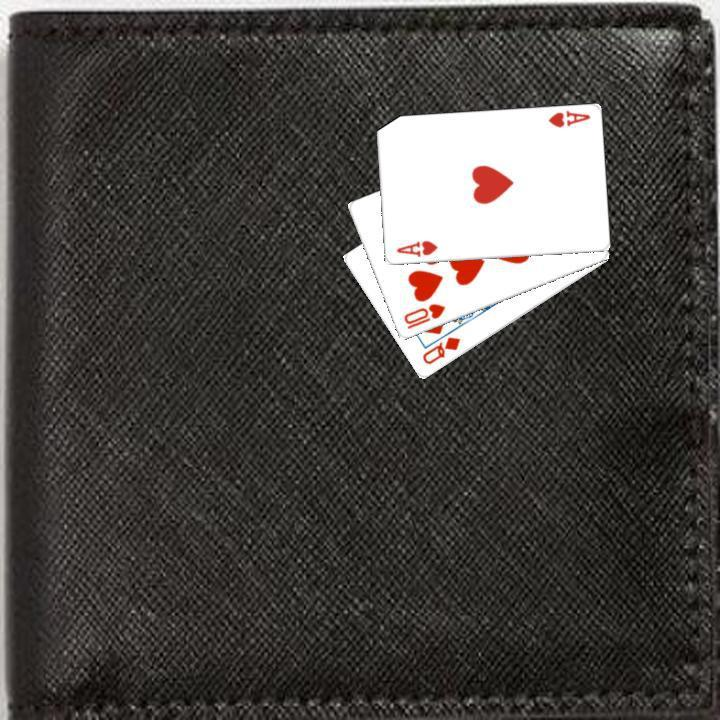10: (399, 299, 447, 331)
A: (544, 107, 592, 130), (392, 237, 439, 259)
Q: (418, 332, 462, 367)
